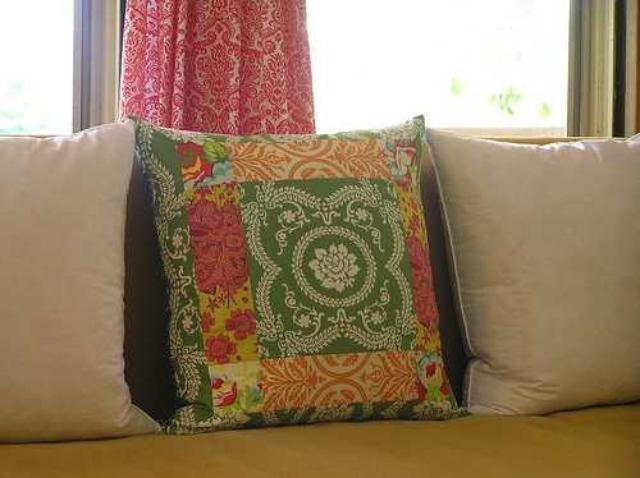pillow: (124, 113, 472, 435), (426, 125, 638, 416), (0, 121, 162, 444)
